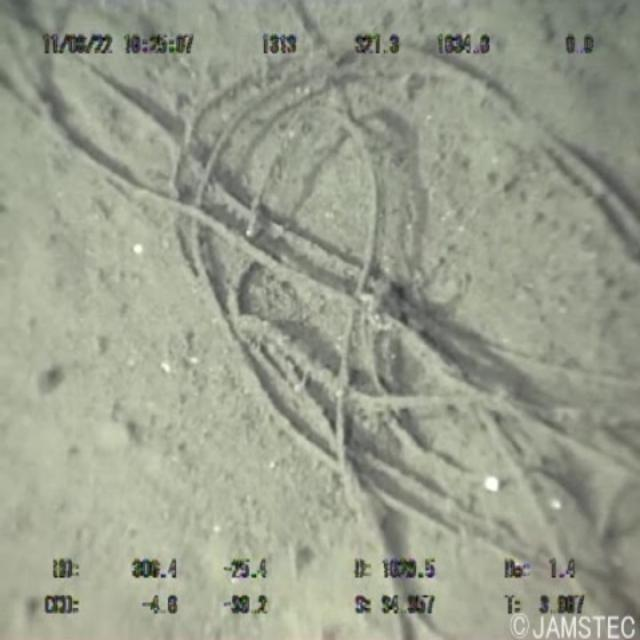Rope: (25, 9, 628, 638)
